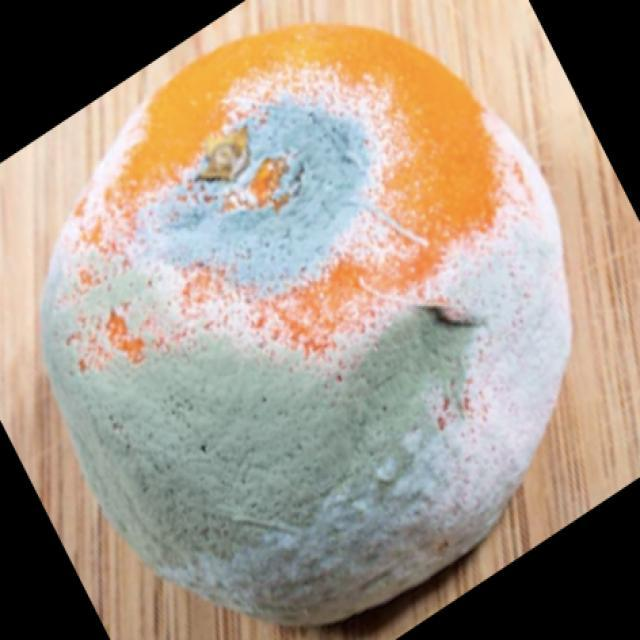sangat-busuk: (42, 25, 570, 624)
